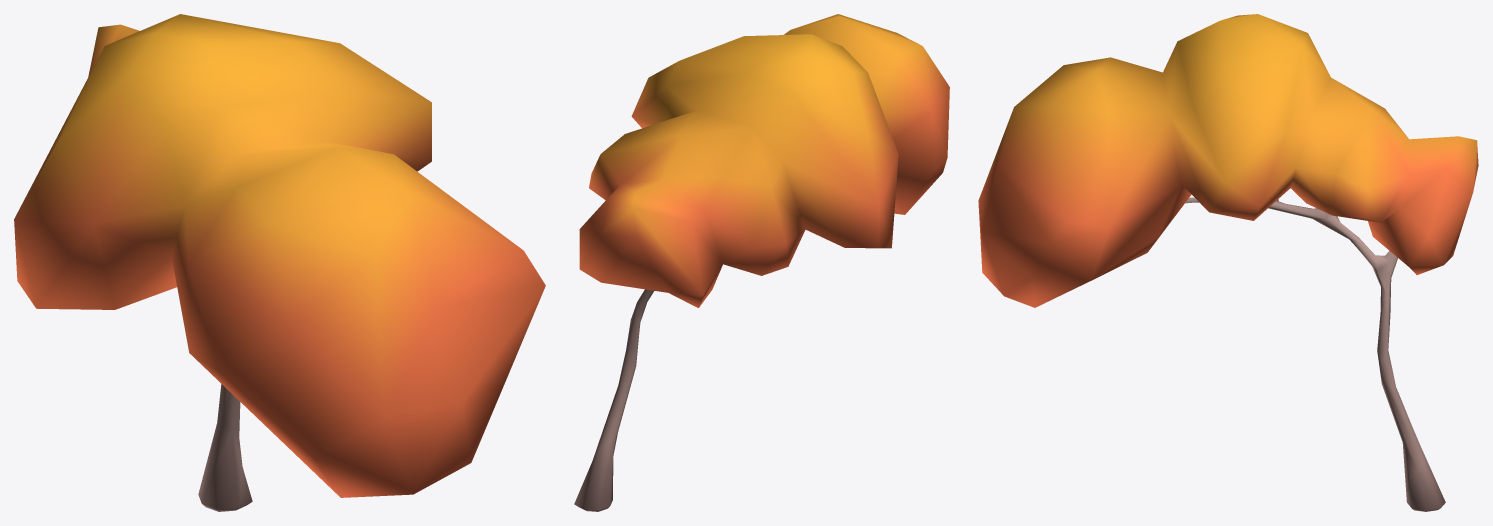
Rendered from Tree03_M_Orange.fbx.
3 views of the same model, side by side, from view 1: azimuth 30°, elevation 25°; view 2: azimuth 150°, elevation 25°; view 3: azimuth 270°, elevation 25° (orthographic). The views are drawn at different scales.
Visible parts, largest first — view 1: Tree03_M_Orange; view 2: Tree03_M_Orange; view 3: Tree03_M_Orange.
Boxes of the visible parts, <box> form: Tree03_M_Orange: <box>14,14,545,511</box>; Tree03_M_Orange: <box>574,14,949,511</box>; Tree03_M_Orange: <box>978,14,1478,511</box>.
Bounding box in the file's own units: 3.95 × 6.11 × 6.47.
